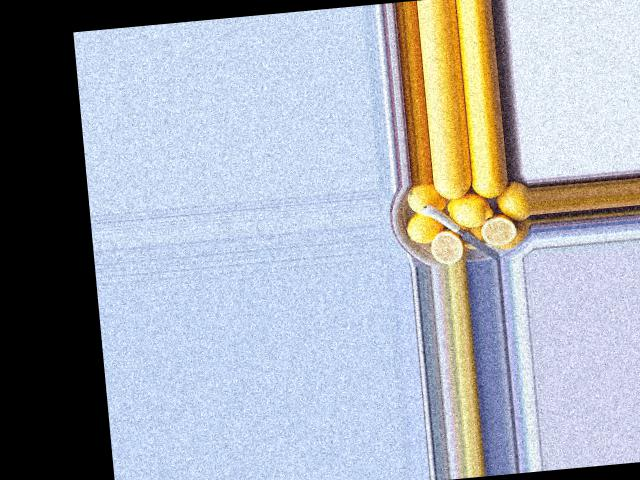lemon: (493, 180, 530, 226)
